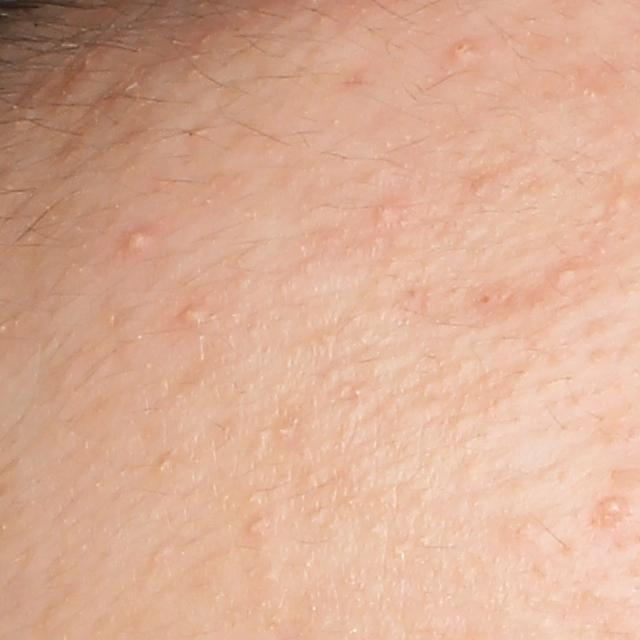comedo: (592, 497, 628, 530), (552, 260, 583, 287), (244, 515, 270, 541), (180, 304, 208, 327), (613, 191, 633, 217), (275, 422, 295, 442)
papule: (451, 35, 481, 69)
pustule: (124, 227, 155, 255)
